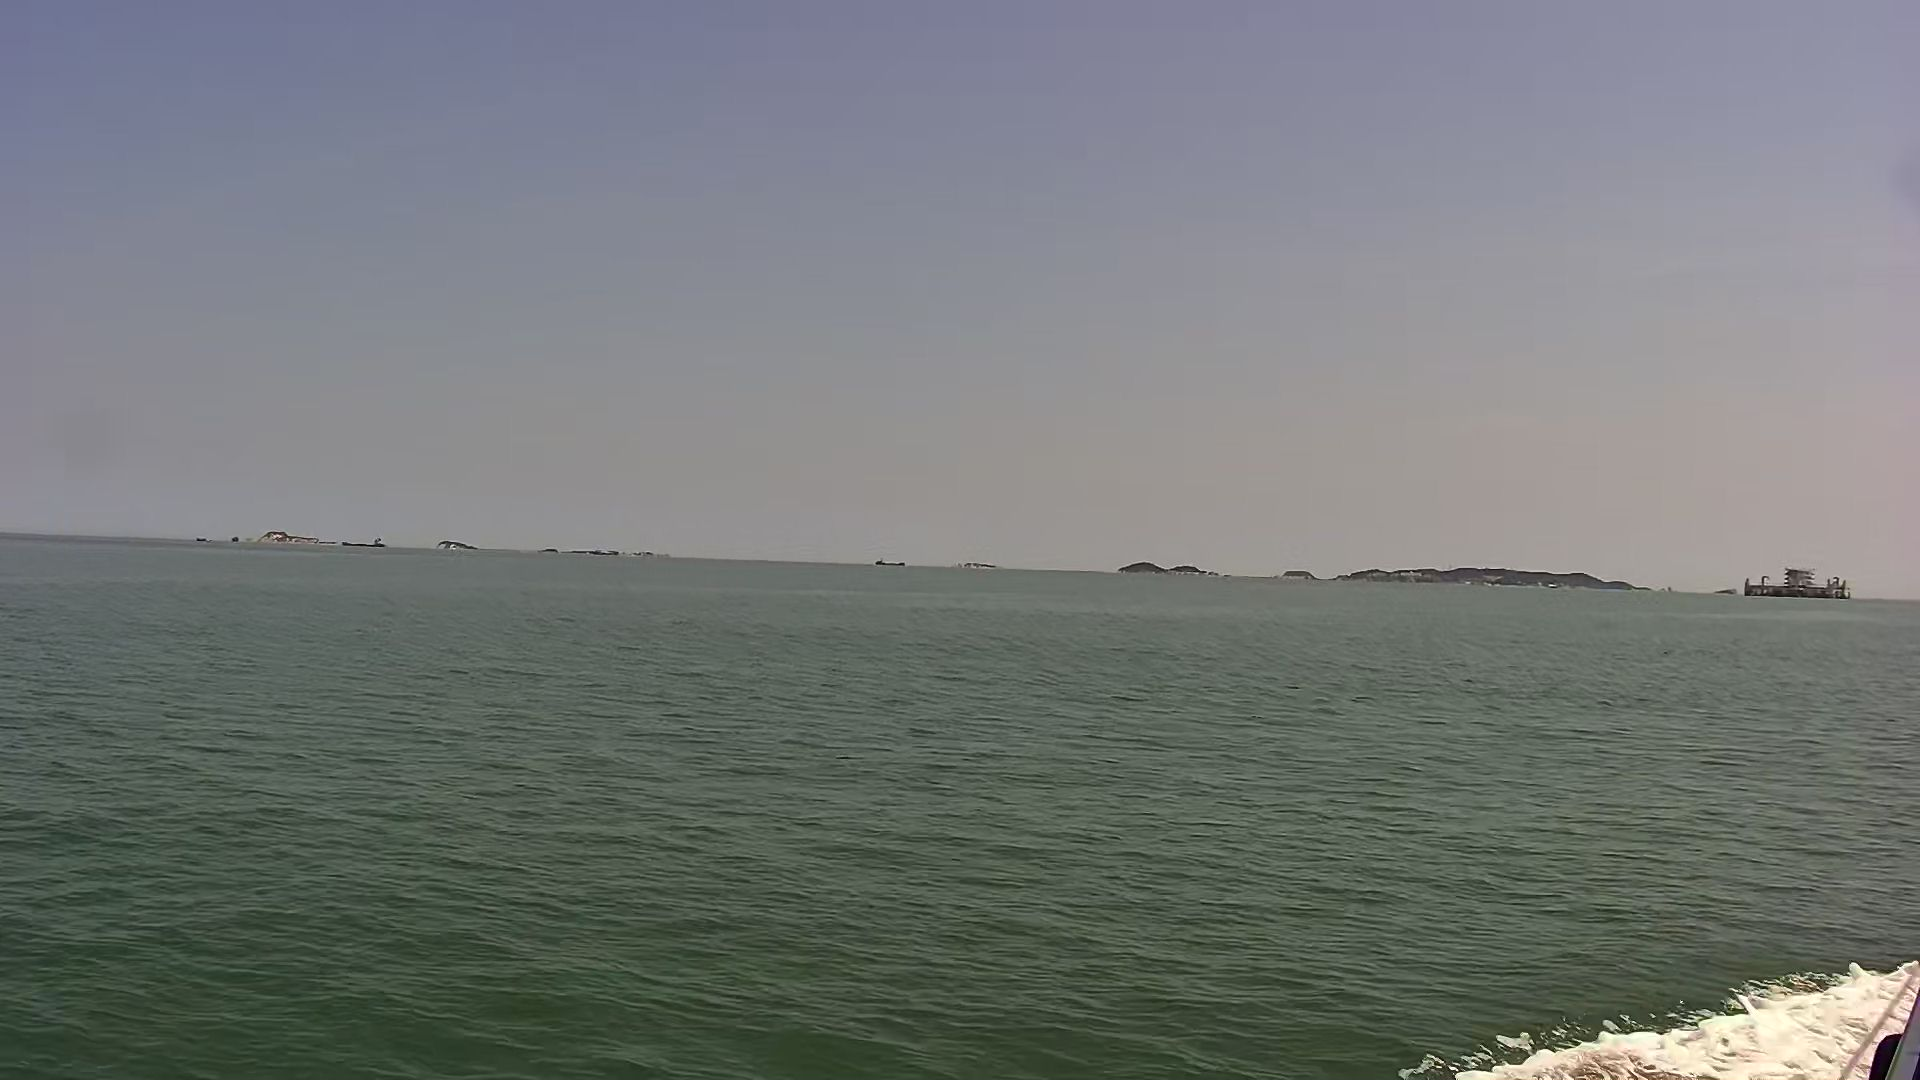platform: (1745, 564, 1855, 601)
rock: (1284, 564, 1648, 593), (1117, 560, 1230, 578)
